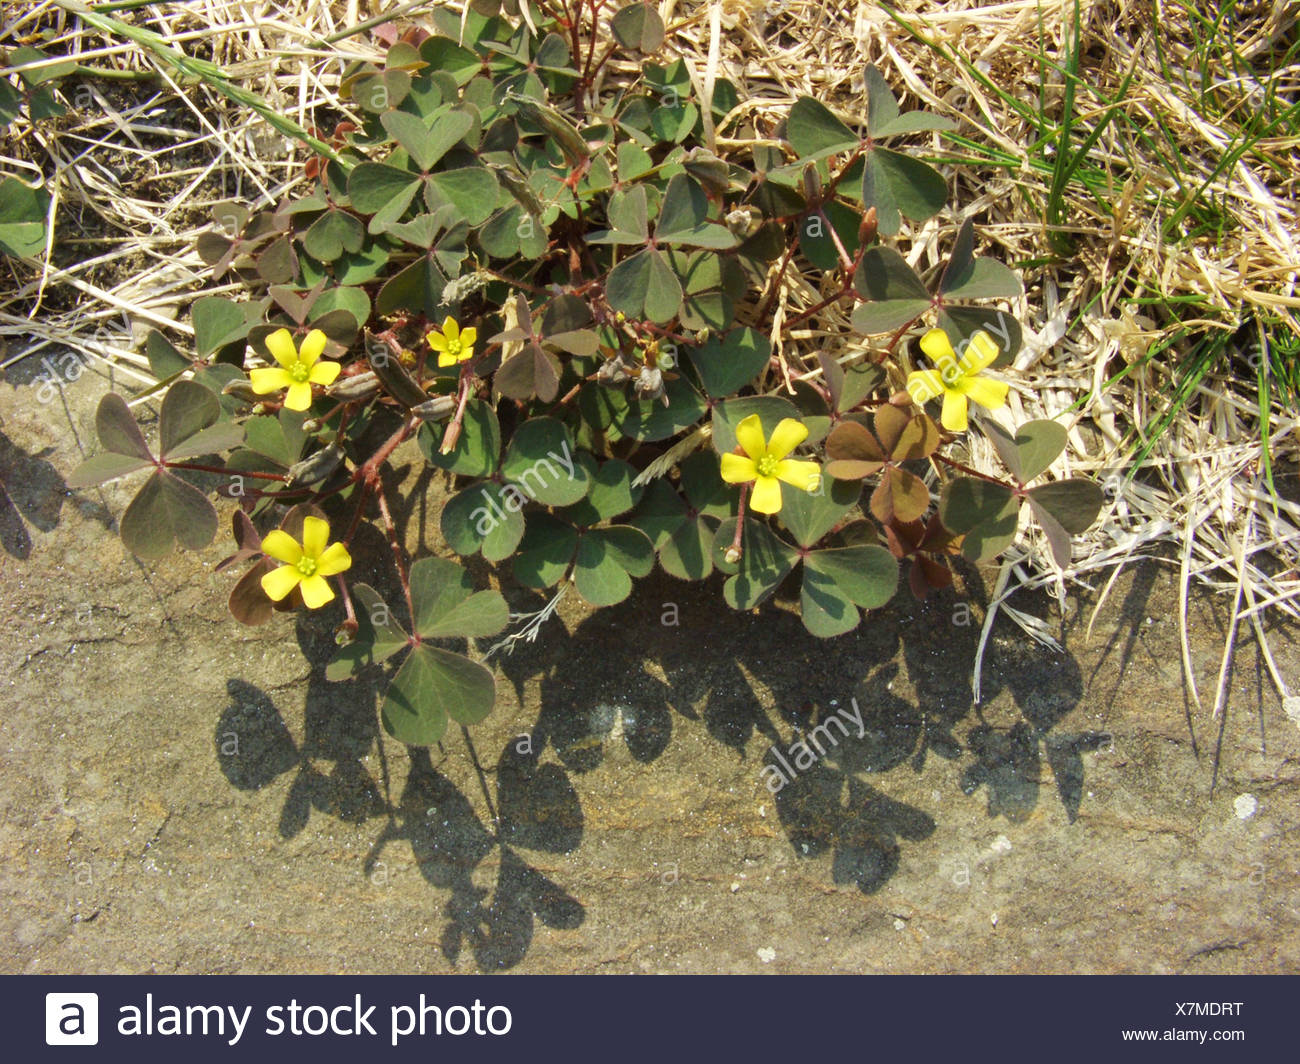oxalis: (192, 115, 1060, 671)
